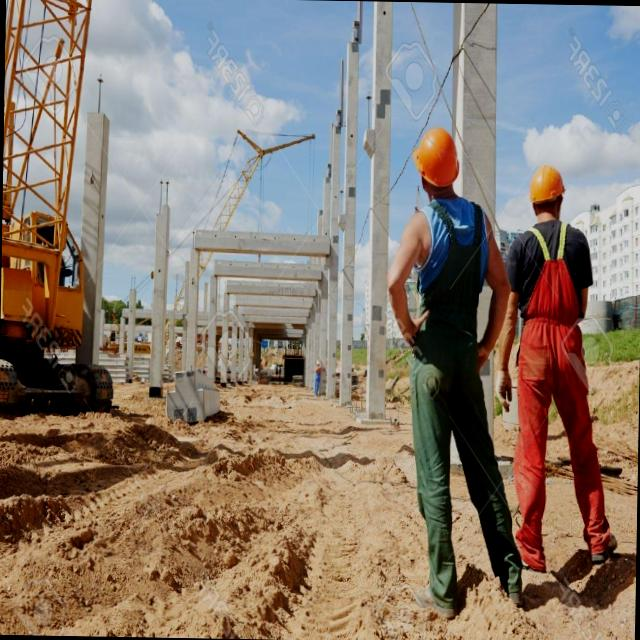helmet: (406, 130, 466, 186), (525, 156, 571, 210)
no-vest: (415, 201, 490, 324), (518, 222, 584, 320)
